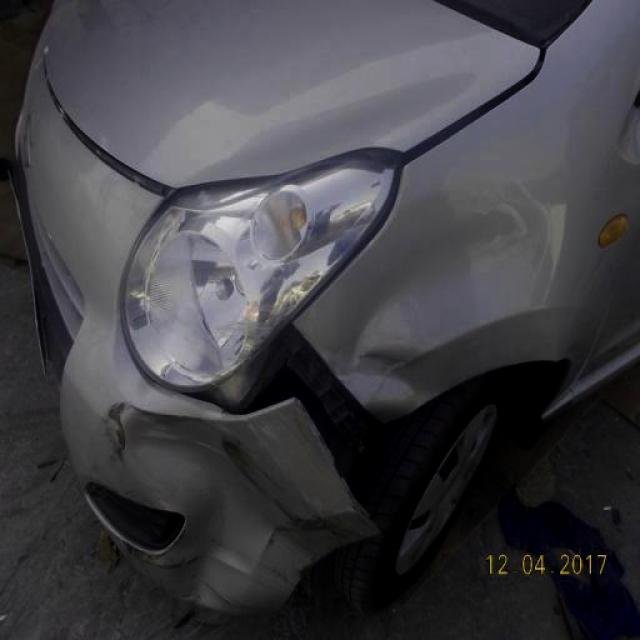car damage: (107, 398, 378, 613), (181, 325, 385, 535)
